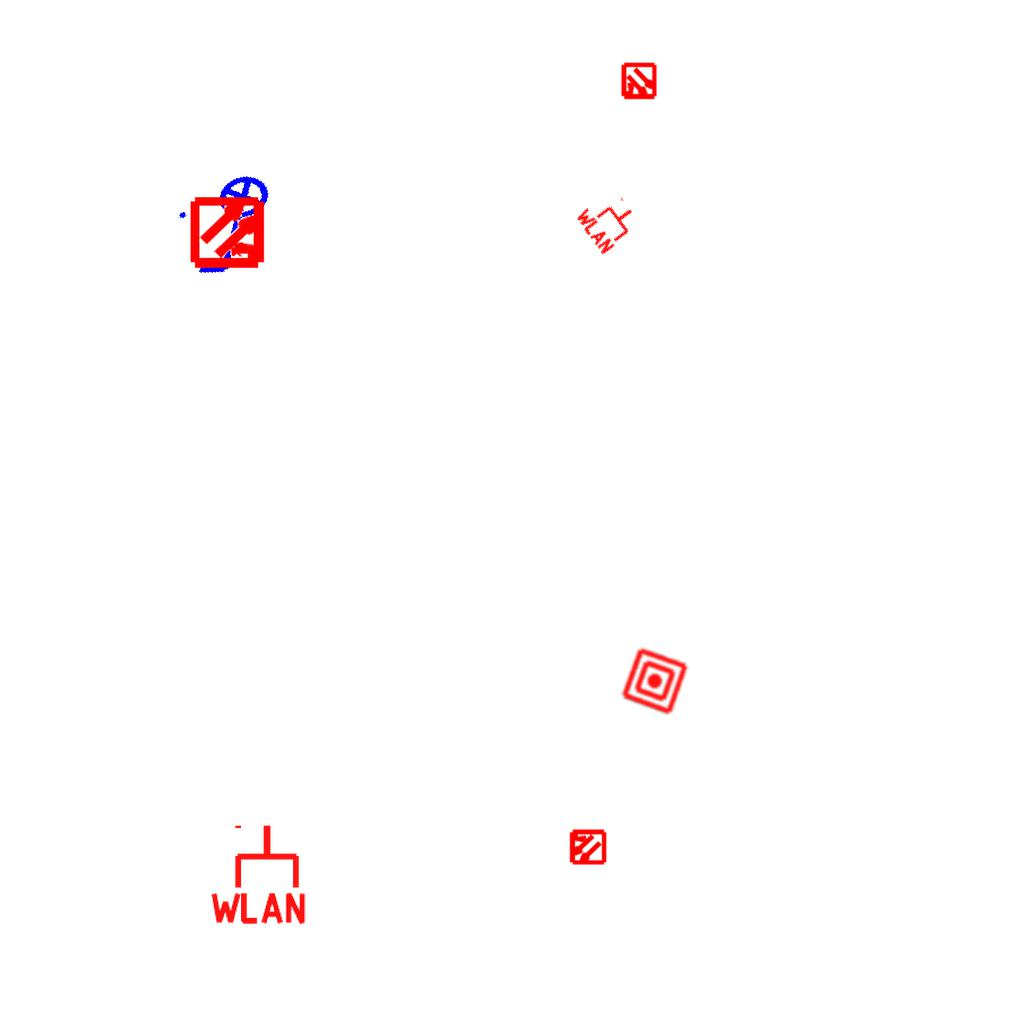Ausschalter_beleuchtet: (167, 164, 303, 290)
NAM-Nichtautomatischer_Melder: (619, 645, 691, 717)
OT_Multisensormelder_(Kombination_RMO_WMD): (173, 176, 286, 289), (611, 54, 667, 110), (559, 819, 615, 875)
WLAN: (206, 821, 310, 926), (572, 184, 646, 258)
